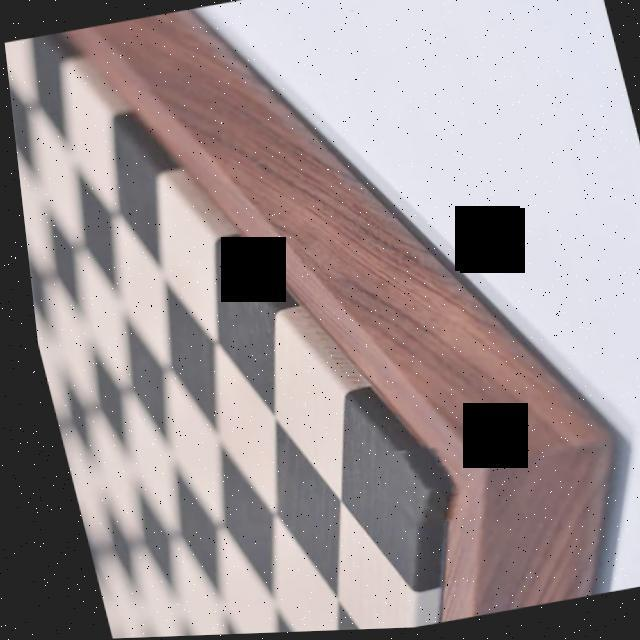chess-table-corners: (372, 442, 462, 531)
